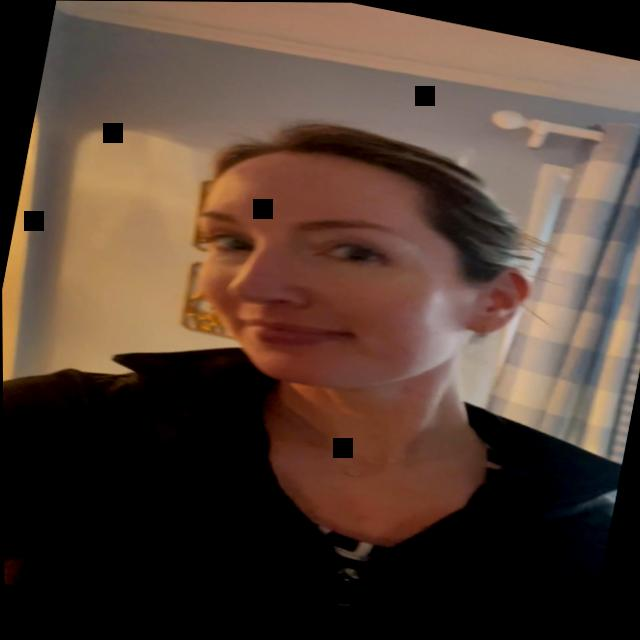NO-Mask: (166, 131, 514, 420)
